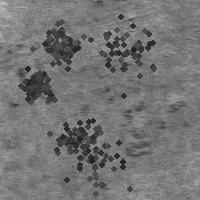rolled-in_scale: (75, 1, 173, 99), (41, 110, 145, 200), (102, 86, 189, 160), (42, 106, 108, 172), (31, 13, 89, 71), (1, 40, 46, 112), (11, 59, 59, 107)
